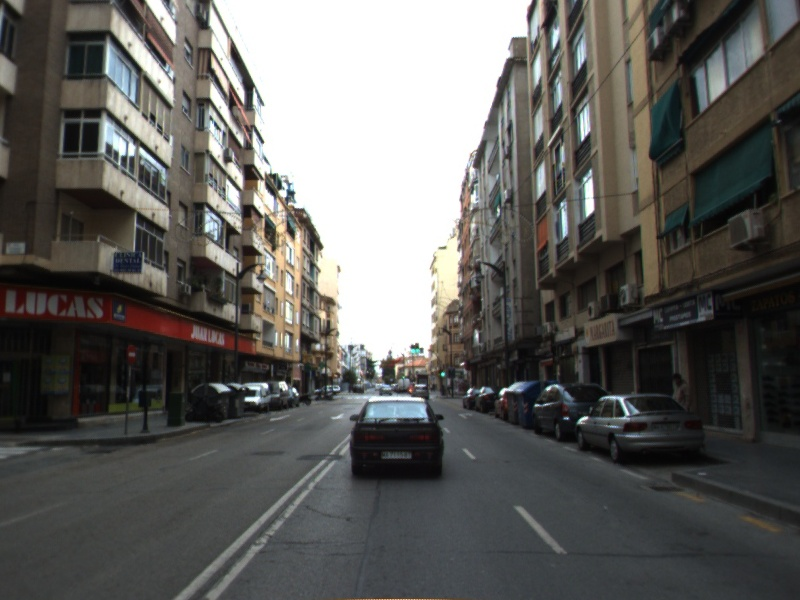RIGHT: (457, 411, 474, 420)
